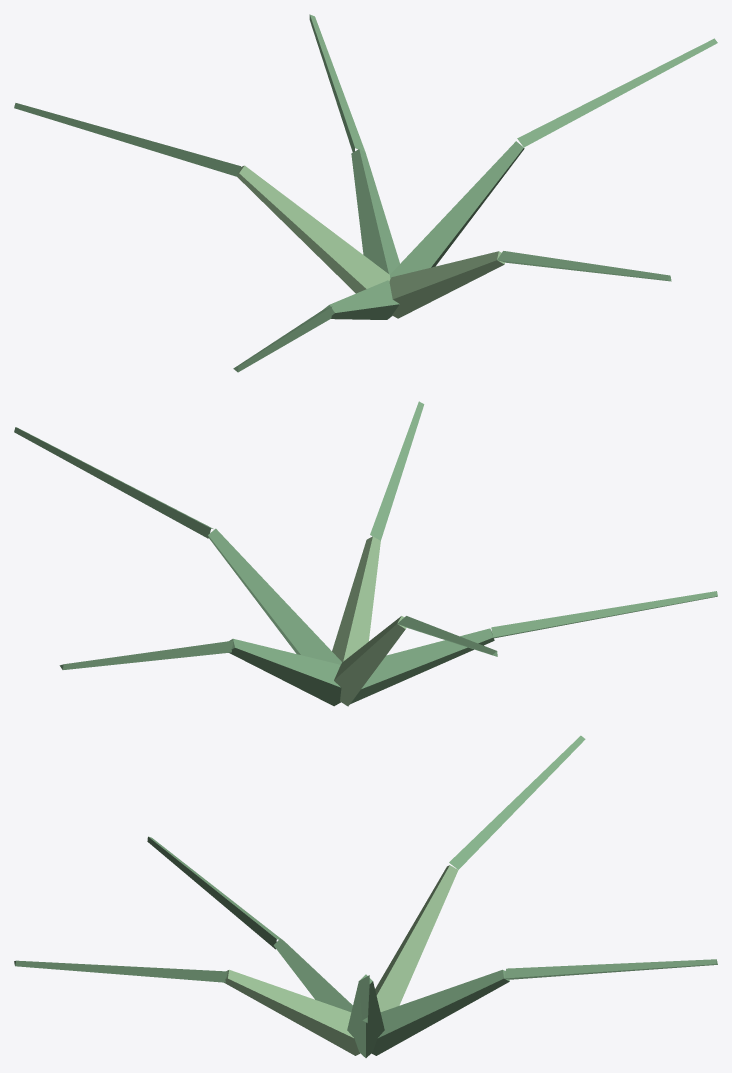
The model's file is fern_v36.glb.
3 views of the same model, one above another, from view 1: azimuth 30°, elevation 25°; view 2: azimuth 150°, elevation 25°; view 3: azimuth 270°, elevation 25° (orthographic). The views are drawn at different scales.
Parts seen in each view (by area): view 1: lod0; view 2: lod0; view 3: lod0.
Boxes of the visible parts, x1=… form: lod0: x1=14, y1=14, x2=717, y2=372; lod0: x1=14, y1=401, x2=717, y2=706; lod0: x1=14, y1=735, x2=717, y2=1057.
Size of what is drawn, in the model's own units: 1.13 by 0.3612 by 1.18.
